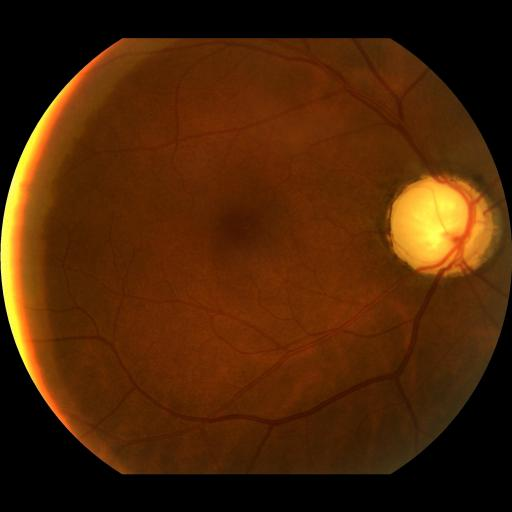Optic Cup: (408, 193, 465, 252)
Optic Disc: (391, 174, 498, 279)
